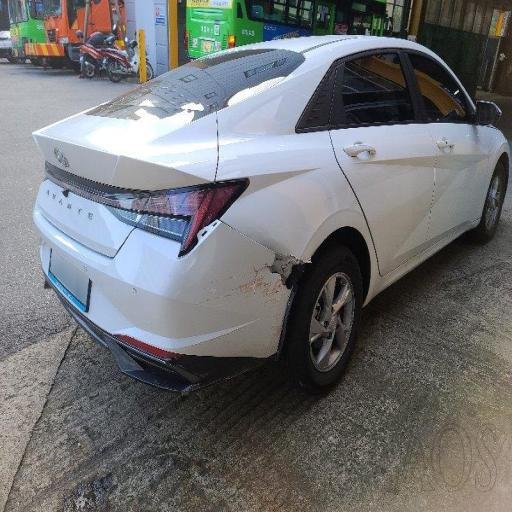broken: (152, 109, 326, 321)
